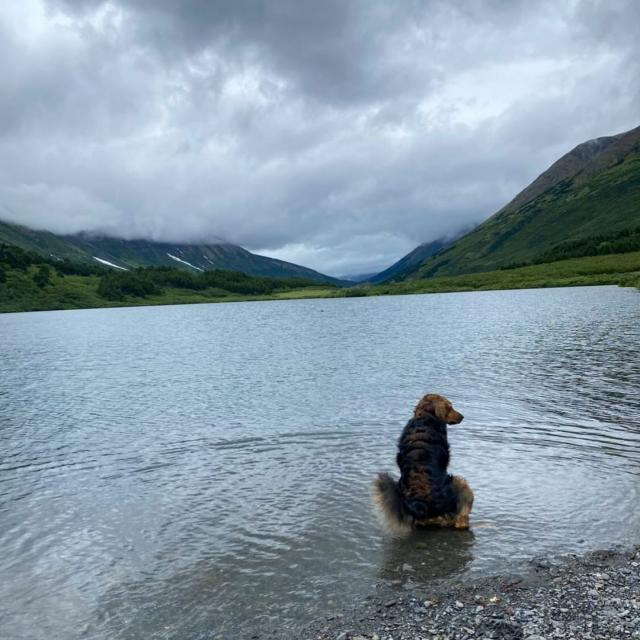squatting: (369, 387, 480, 538)
